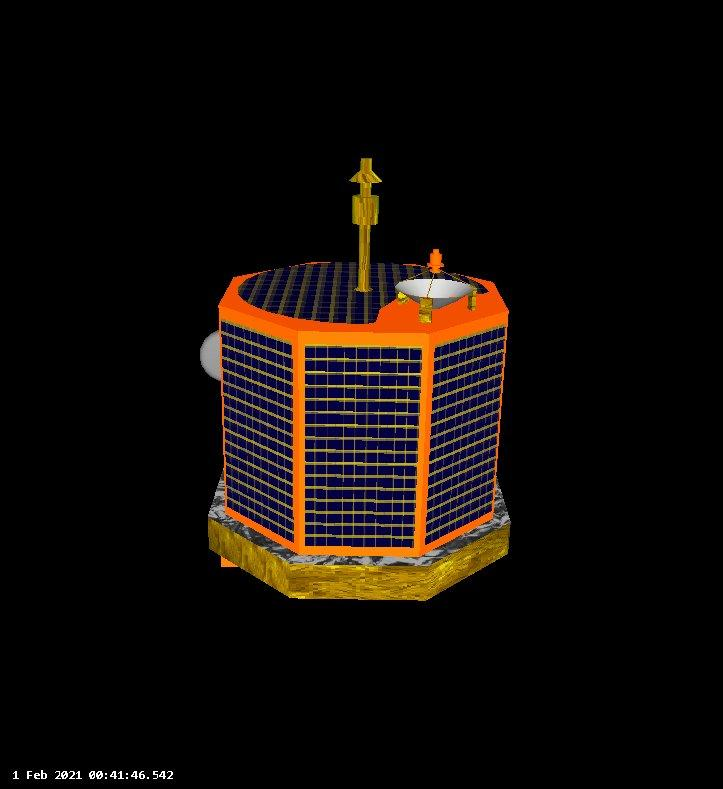antenna: (393, 245, 478, 312), (347, 155, 383, 295)
body: (212, 256, 513, 558)
solar: (302, 343, 425, 552), (422, 322, 508, 549), (219, 317, 298, 549), (235, 258, 490, 325)
